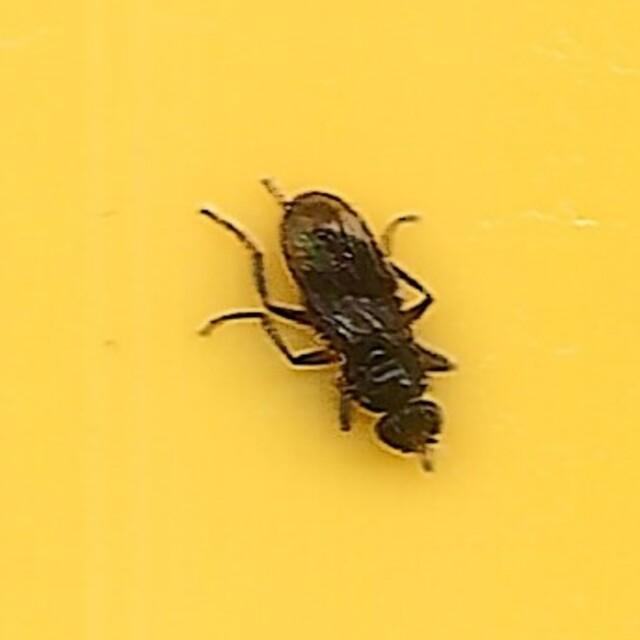Brachycera: (186, 168, 454, 472)
